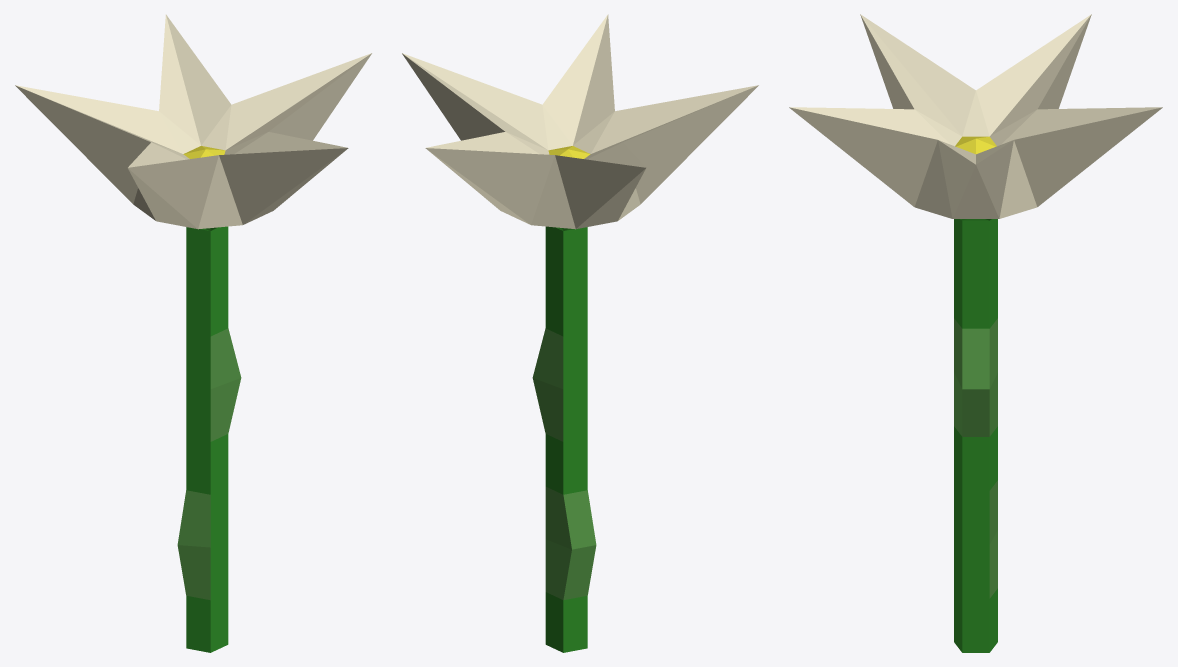
The model's file is flower.glb.
3 renders of one model, left to right at view 1: azimuth 30°, elevation 25°; view 2: azimuth 150°, elevation 25°; view 3: azimuth 270°, elevation 25°, orthographic. The views are drawn at different scales.
Parts seen in each view (by area): view 1: Icosphere; view 2: Icosphere; view 3: Icosphere.
Part boxes in pixels (x1,y1,x2,y2): Icosphere: (15,14,371,652); Icosphere: (402,14,758,652); Icosphere: (789,14,1162,652).
Bounding box in the file's own units: 8.06 × 14.2 × 8.48.
